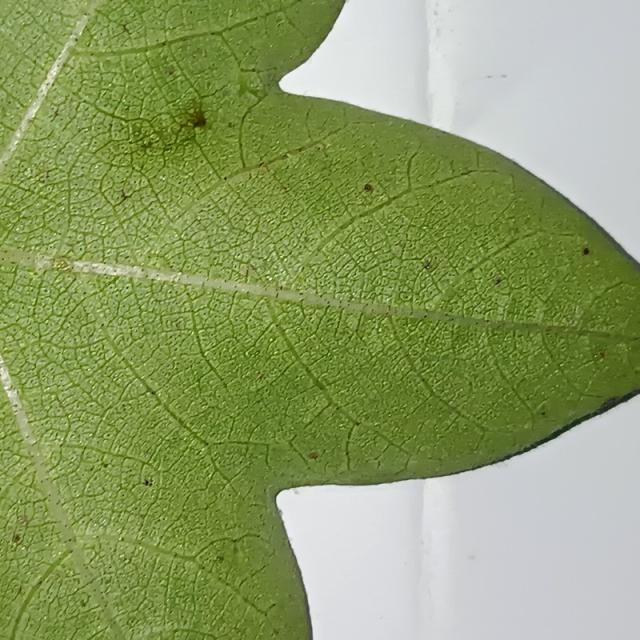Bacterial_Blight: (256, 158, 299, 196), (11, 513, 30, 549), (183, 107, 208, 130), (260, 71, 281, 93), (235, 74, 250, 98), (245, 83, 266, 100), (362, 178, 379, 198), (600, 396, 620, 411), (391, 464, 412, 477), (130, 124, 145, 140), (54, 259, 70, 271), (77, 593, 90, 607), (578, 242, 591, 255), (119, 189, 131, 202), (36, 169, 50, 180), (140, 139, 153, 150), (459, 169, 475, 177), (122, 23, 132, 35), (275, 18, 286, 28), (18, 514, 28, 524), (13, 533, 22, 544), (423, 260, 432, 270), (166, 65, 175, 75), (308, 452, 318, 460), (599, 349, 607, 359), (143, 478, 153, 486), (258, 162, 268, 170), (524, 420, 532, 430), (256, 373, 264, 382), (53, 108, 60, 118), (18, 586, 25, 596), (244, 268, 250, 279), (435, 27, 441, 38), (494, 277, 502, 285), (272, 626, 280, 634), (227, 121, 235, 129), (267, 336, 275, 344), (216, 555, 224, 562), (283, 152, 290, 160), (101, 460, 109, 467), (593, 259, 601, 266), (29, 110, 36, 118), (292, 488, 299, 495), (149, 389, 156, 395), (433, 9, 439, 16), (468, 555, 476, 560), (422, 313, 428, 319), (72, 34, 78, 40), (634, 336, 640, 342), (268, 43, 274, 49), (117, 535, 123, 541), (615, 298, 621, 304), (540, 411, 546, 416), (13, 404, 19, 409), (500, 74, 507, 78), (485, 75, 492, 79), (274, 323, 279, 328), (223, 176, 227, 180)
Cotton: (0, 0, 639, 639)
